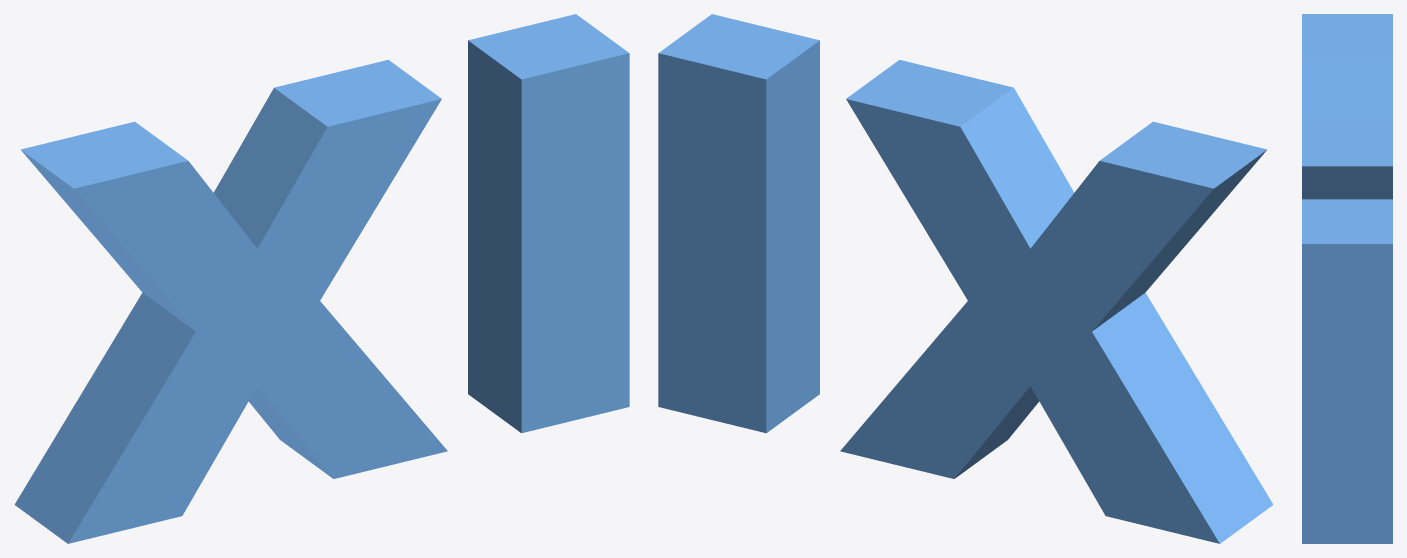
Rendered from suku_kecil_xi.glb.
3 renders of one model, left to right at view 1: azimuth 30°, elevation 25°; view 2: azimuth 150°, elevation 25°; view 3: azimuth 270°, elevation 25°, orthographic. The views are drawn at different scales.
Visible parts, largest first — view 1: geometry_0; view 2: geometry_0; view 3: geometry_0.
Part boxes in pixels (bbox=[...]): geometry_0: bbox=[14, 14, 629, 543]; geometry_0: bbox=[658, 14, 1273, 543]; geometry_0: bbox=[1302, 14, 1392, 543].
Bounding box in the file's own units: 9.08 × 5.47 × 1.5.
